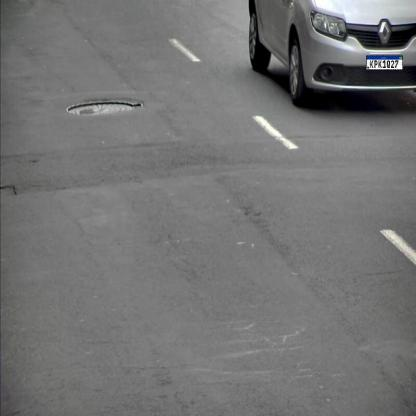PlacaM: (366, 55, 403, 70)
